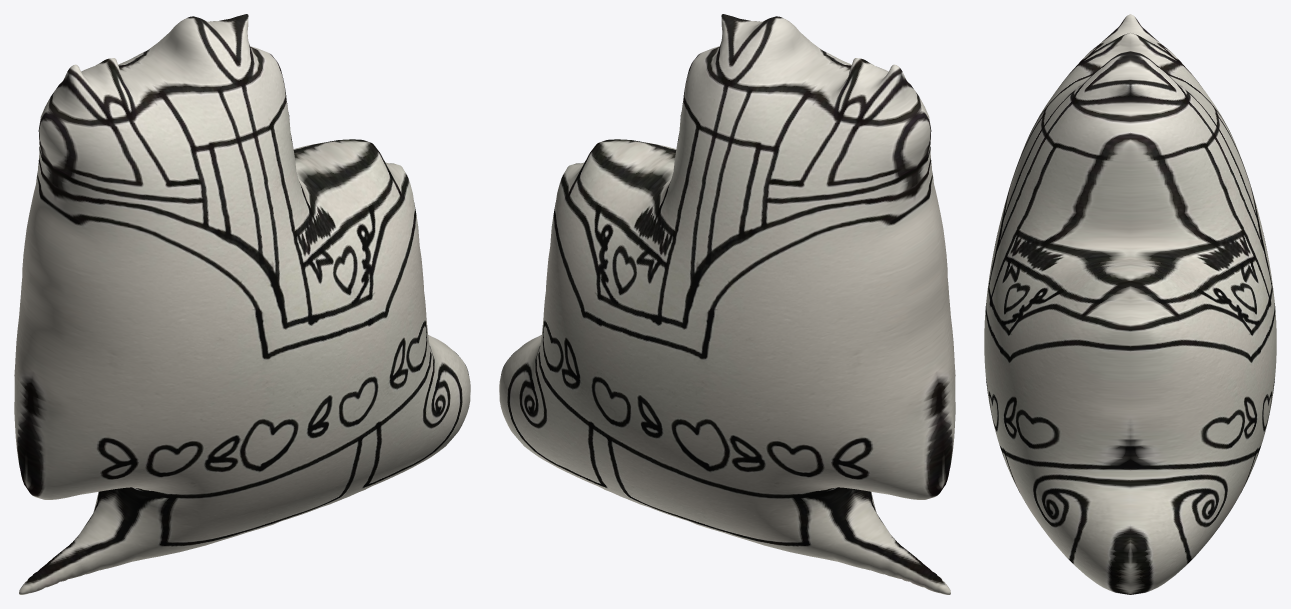
The picture shows the model from 3 angles, left to right: view 1: azimuth 30°, elevation 25°; view 2: azimuth 150°, elevation 25°; view 3: azimuth 270°, elevation 25°; orthographic projection. The views are drawn at different scales.
Bounding box in the file's own units: 5.09 × 5.85 × 3.19.
1 material, 1 textured.
